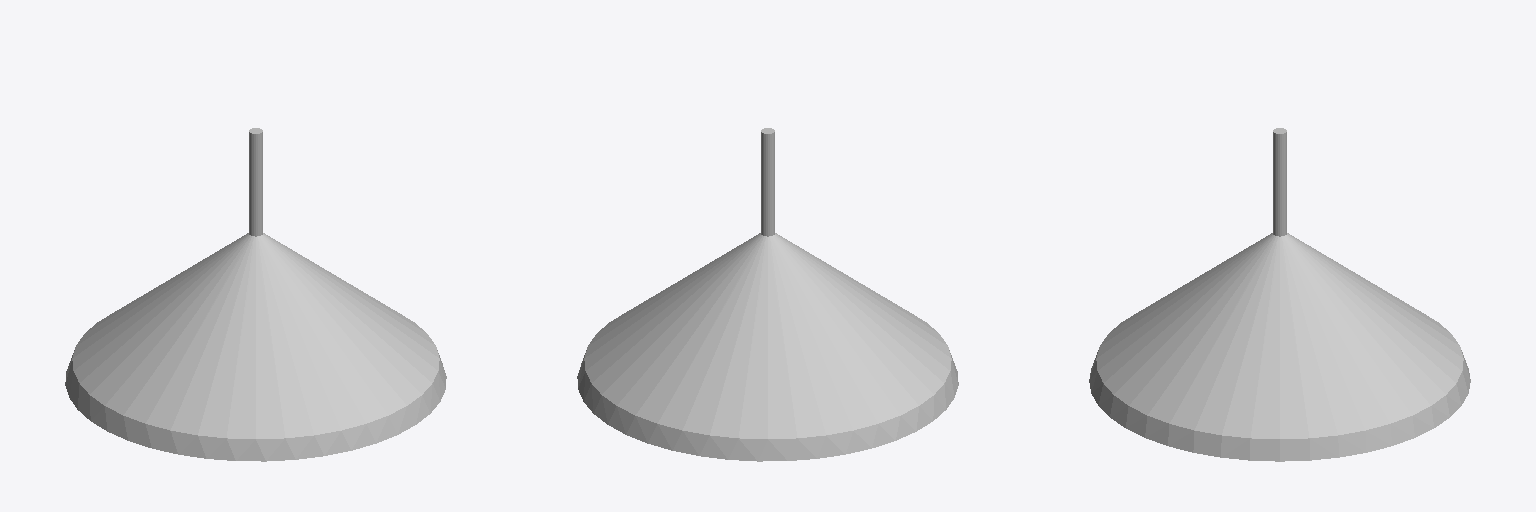
The model's file is ceiling_lamp.obj.
3 views of the same model, side by side, from view 1: azimuth 30°, elevation 25°; view 2: azimuth 150°, elevation 25°; view 3: azimuth 270°, elevation 25° (orthographic).
Visible parts, largest first — view 1: Body1; view 2: Body1; view 3: Body1.
Boxes of the visible parts, x1=… form: Body1: x1=65, y1=128, x2=446, y2=461; Body1: x1=577, y1=128, x2=958, y2=461; Body1: x1=1089, y1=128, x2=1470, y2=461.
Size of the model in its own units: 54 by 39 by 54.